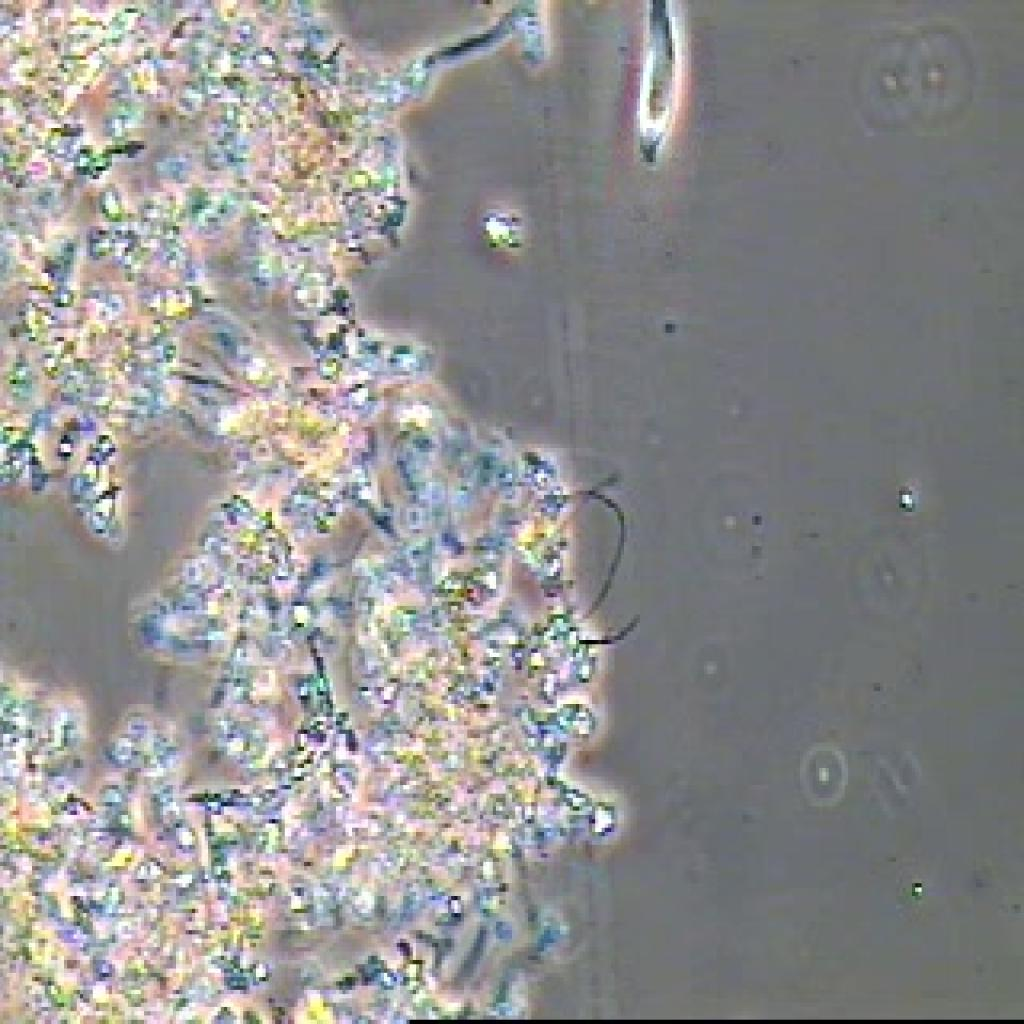Pristina: (608, 0, 701, 162)
